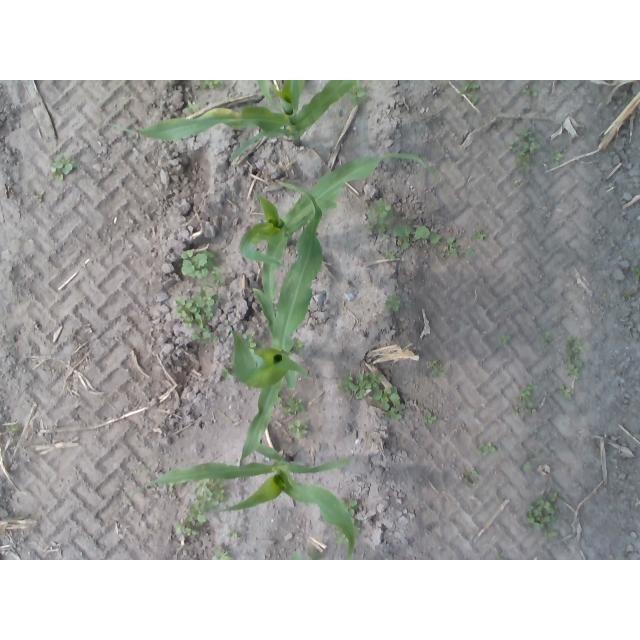Maize: (239, 153, 438, 306), (230, 180, 323, 462), (148, 444, 357, 560), (109, 80, 358, 162), (290, 552, 303, 561)
Weeds: (176, 292, 220, 325), (509, 131, 540, 174), (340, 373, 381, 399), (182, 250, 217, 278), (527, 499, 557, 529), (394, 224, 431, 248), (196, 480, 224, 510), (372, 386, 403, 411), (52, 156, 77, 181), (373, 198, 392, 219), (173, 523, 199, 538), (289, 421, 309, 439), (517, 382, 538, 399), (427, 359, 445, 377), (351, 84, 369, 102), (442, 239, 459, 258), (186, 509, 207, 524), (365, 222, 389, 235), (287, 398, 305, 414), (515, 403, 533, 418), (567, 337, 582, 354), (386, 294, 401, 311), (181, 102, 200, 114), (191, 331, 213, 341), (203, 80, 225, 90), (215, 549, 233, 560), (567, 364, 582, 377), (480, 442, 495, 455), (560, 385, 573, 399), (465, 81, 480, 93), (422, 412, 436, 424), (381, 249, 396, 259), (474, 228, 486, 240), (428, 232, 440, 244), (385, 412, 402, 420), (213, 266, 222, 281), (543, 530, 558, 539), (295, 337, 304, 351), (221, 368, 231, 380), (10, 425, 22, 435), (36, 191, 45, 202), (542, 333, 551, 344), (525, 90, 536, 99), (249, 335, 257, 347), (633, 268, 640, 281), (501, 336, 511, 345), (548, 493, 558, 502), (466, 249, 475, 259), (556, 153, 565, 162), (523, 462, 532, 470), (564, 357, 572, 364), (470, 470, 478, 477), (574, 361, 583, 367)
